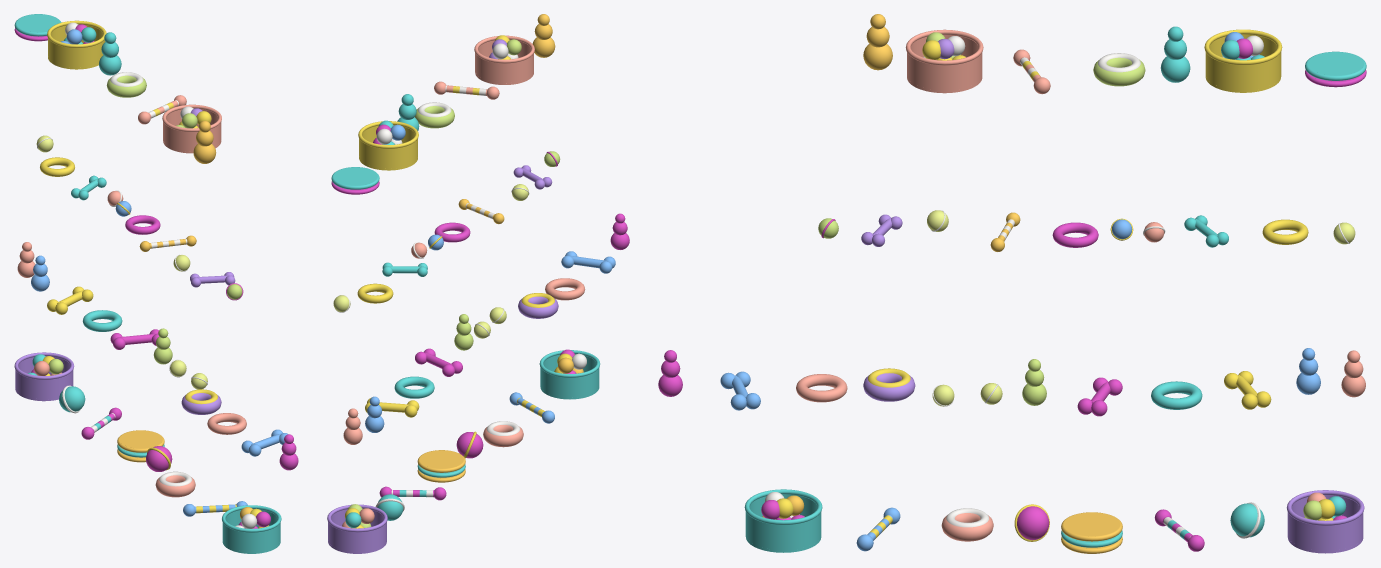
The model's file is vete_juguetes.glb.
3 renders of one model, left to right at view 1: azimuth 30°, elevation 25°; view 2: azimuth 150°, elevation 25°; view 3: azimuth 270°, elevation 25°, orthographic. The views are drawn at different scales.
Parts seen in each view (by area): view 1: juguetes_15, juguetes_0, juguetes_33, juguetes_37, juguetes_19, juguetes_21, juguetes_20, juguetes_10, juguetes_11, juguetes_8, juguetes_23, juguetes_5 (+19 smaller); view 2: juguetes_15, juguetes_33, juguetes_37, juguetes_0, juguetes_11, juguetes_10, juguetes_20, juguetes_21, juguetes_19, juguetes_8, juguetes_23, juguetes_6 (+21 smaller); view 3: juguetes_0, juguetes_15, juguetes_33, juguetes_37, juguetes_10, juguetes_11, juguetes_19, juguetes_21, juguetes_20, juguetes_5, juguetes_23, juguetes_3 (+13 smaller).
Boxes of the visible parts, x1,y1,x2,y2 form: juguetes_15: [222, 505, 281, 553]; juguetes_0: [14, 352, 74, 401]; juguetes_33: [47, 20, 106, 69]; juguetes_37: [162, 104, 221, 153]; juguetes_19: [40, 157, 93, 314]; juguetes_21: [110, 215, 160, 349]; juguetes_20: [71, 175, 122, 331]; juguetes_10: [117, 430, 164, 462]; juguetes_11: [14, 14, 164, 457]; juguetes_8: [91, 72, 191, 486]; juguetes_23: [36, 135, 207, 389]; juguetes_5: [31, 24, 270, 528]; juguetes_15: [539, 350, 600, 399]; juguetes_33: [358, 121, 418, 170]; juguetes_37: [474, 35, 534, 84]; juguetes_0: [327, 504, 387, 553]; juguetes_11: [331, 167, 465, 477]; juguetes_10: [417, 450, 465, 482]; juguetes_20: [382, 262, 434, 398]; juguetes_21: [415, 222, 470, 376]; juguetes_19: [357, 283, 419, 417]; juguetes_8: [391, 85, 519, 497]; juguetes_23: [333, 184, 528, 338]; juguetes_6: [375, 43, 586, 511]; juguetes_0: [1286, 490, 1364, 553]; juguetes_15: [744, 489, 822, 552]; juguetes_33: [1204, 29, 1282, 92]; juguetes_37: [905, 29, 983, 93]; juguetes_10: [1061, 512, 1122, 553]; juguetes_11: [1061, 51, 1366, 547]; juguetes_19: [1224, 219, 1308, 409]; juguetes_21: [1052, 222, 1122, 416]; juguetes_20: [1151, 215, 1228, 409]; juguetes_5: [761, 38, 1346, 540]; juguetes_23: [927, 210, 1355, 406]; juguetes_3: [1221, 40, 1346, 537].
Bounding box in the file's own units: 0.2654 × 1.66 × 2.06.
